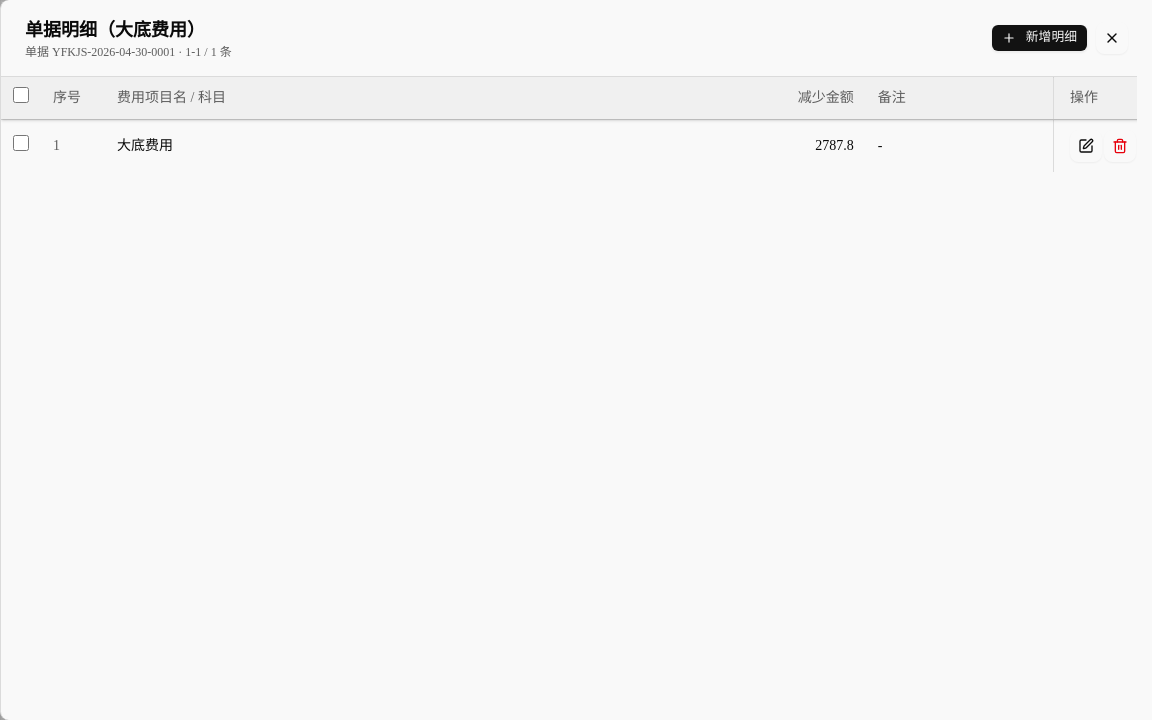
saves a changed subject for 应付款减少 with a numeric amount
Expected: the text "大底费用" is shown, [105,120,580,172]
Click the button named "编辑明细" at (1086, 146), box [1070,130,1102,162]
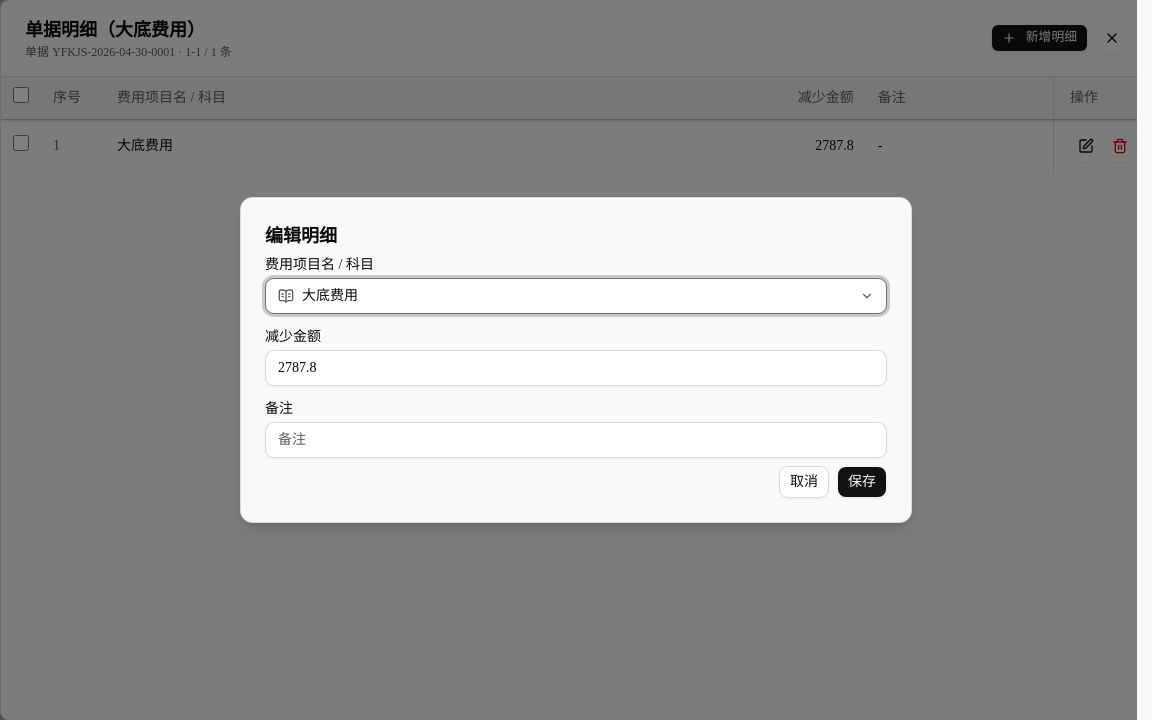
Click the button named "费用项目名 / 科目" at (330, 296), box [265,278,887,314]
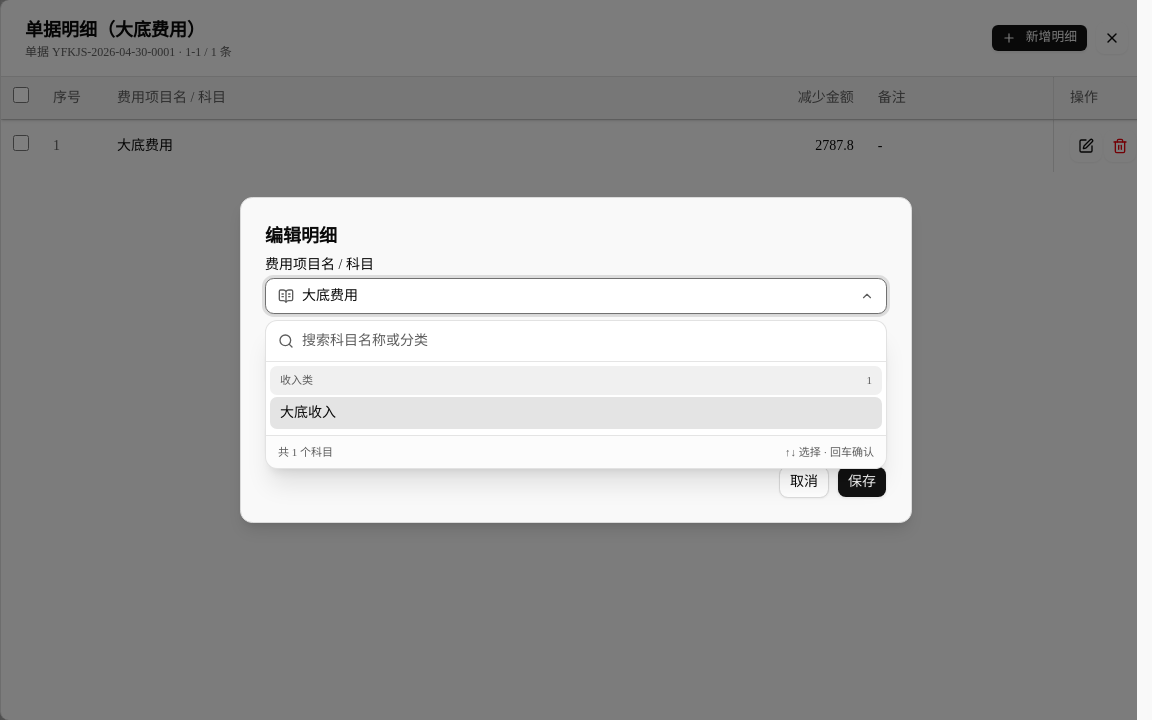
Click the option "大底收入" at (308, 412), box [270,396,882,428]
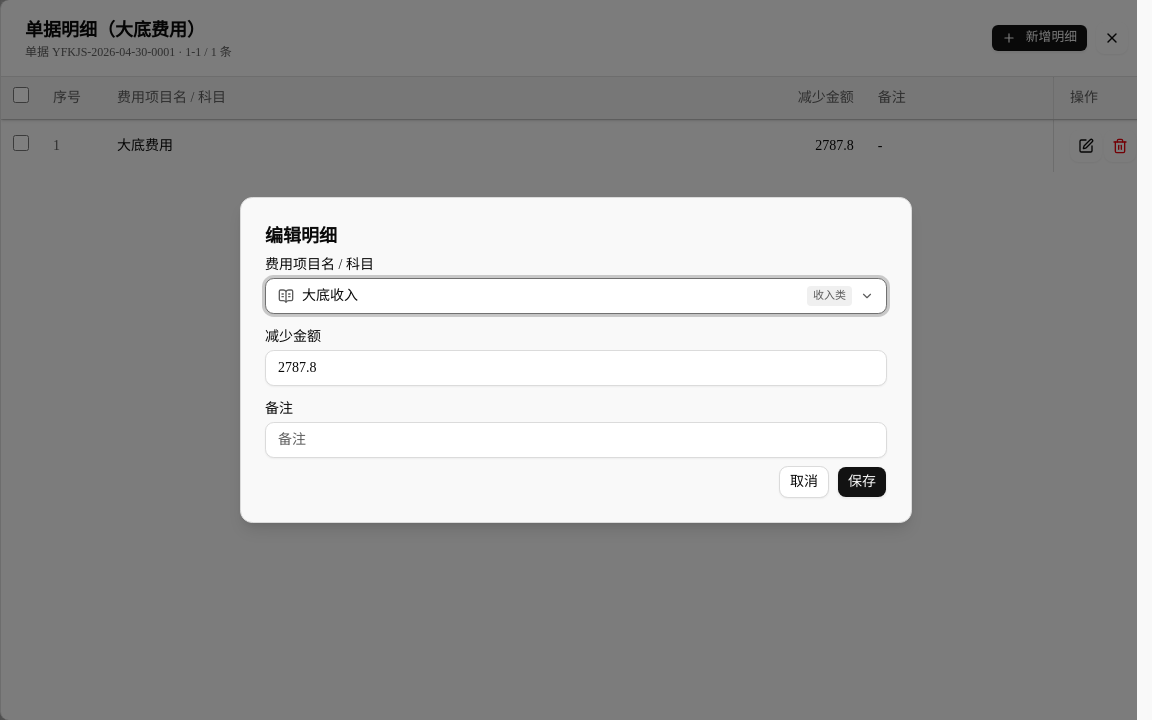
Click the button "保存" at (862, 482), box [837,466,887,498]
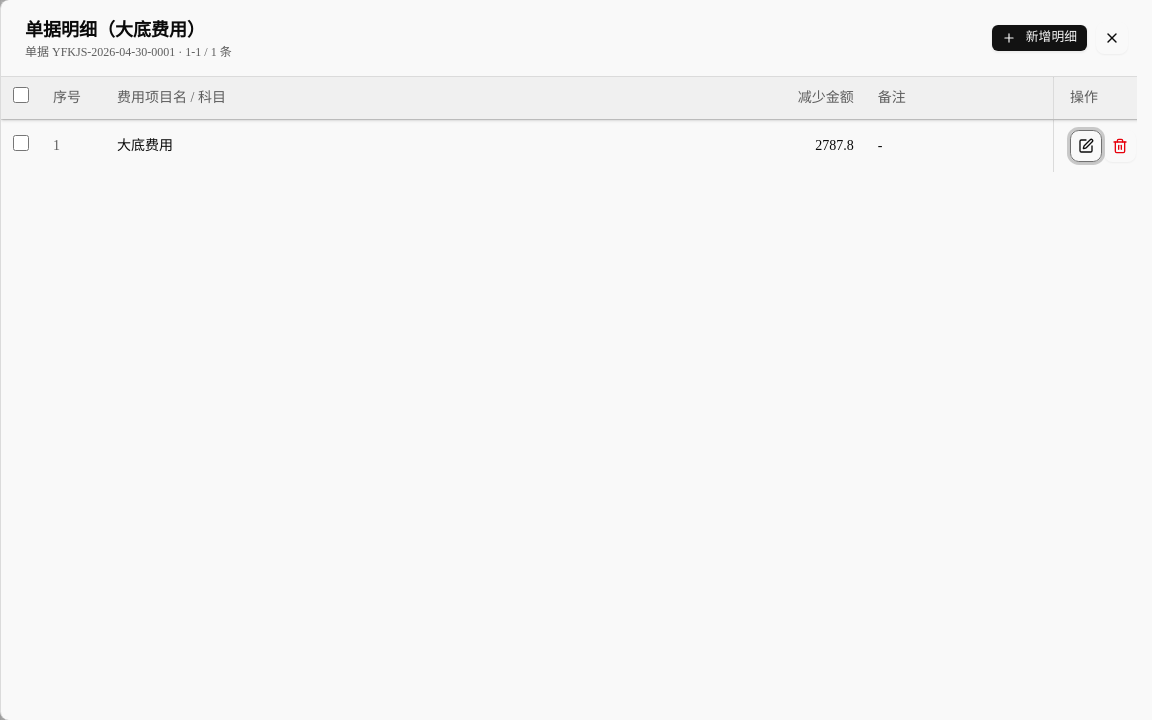
Expected: the heading "编辑明细" is gone
